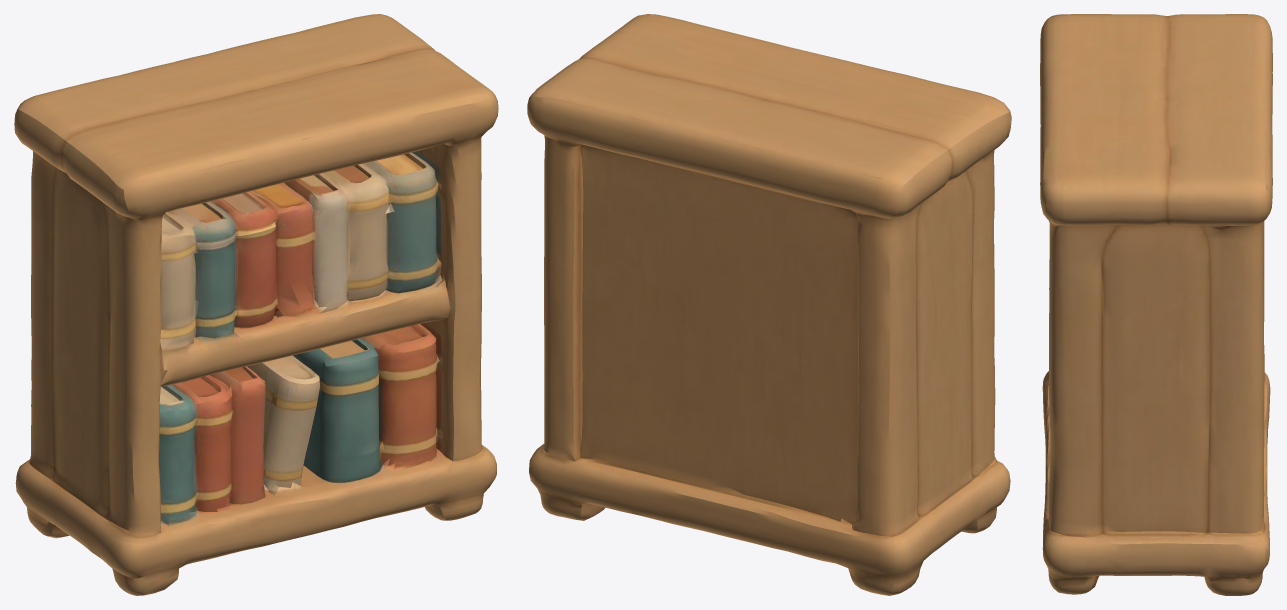
File: Meshy_AI_model.glb
3 renders of one model, left to right at view 1: azimuth 30°, elevation 25°; view 2: azimuth 150°, elevation 25°; view 3: azimuth 270°, elevation 25°, orthographic. The views are drawn at different scales.
Parts seen in each view (by area): view 1: Mesh0; view 2: Mesh0; view 3: Mesh0.
Boxes of the visible parts, left/top/right/bottom form: Mesh0: left=14, top=14, right=498, bottom=595; Mesh0: left=527, top=14, right=1011, bottom=595; Mesh0: left=1040, top=14, right=1272, bottom=595.
Size of the model in its own units: 1.77 by 1.9 by 0.9602.
1 material, 1 textured.
